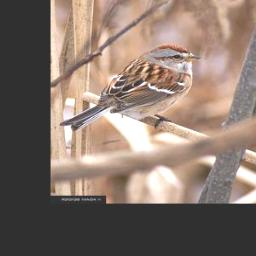Sparrow: (60, 43, 205, 131)
